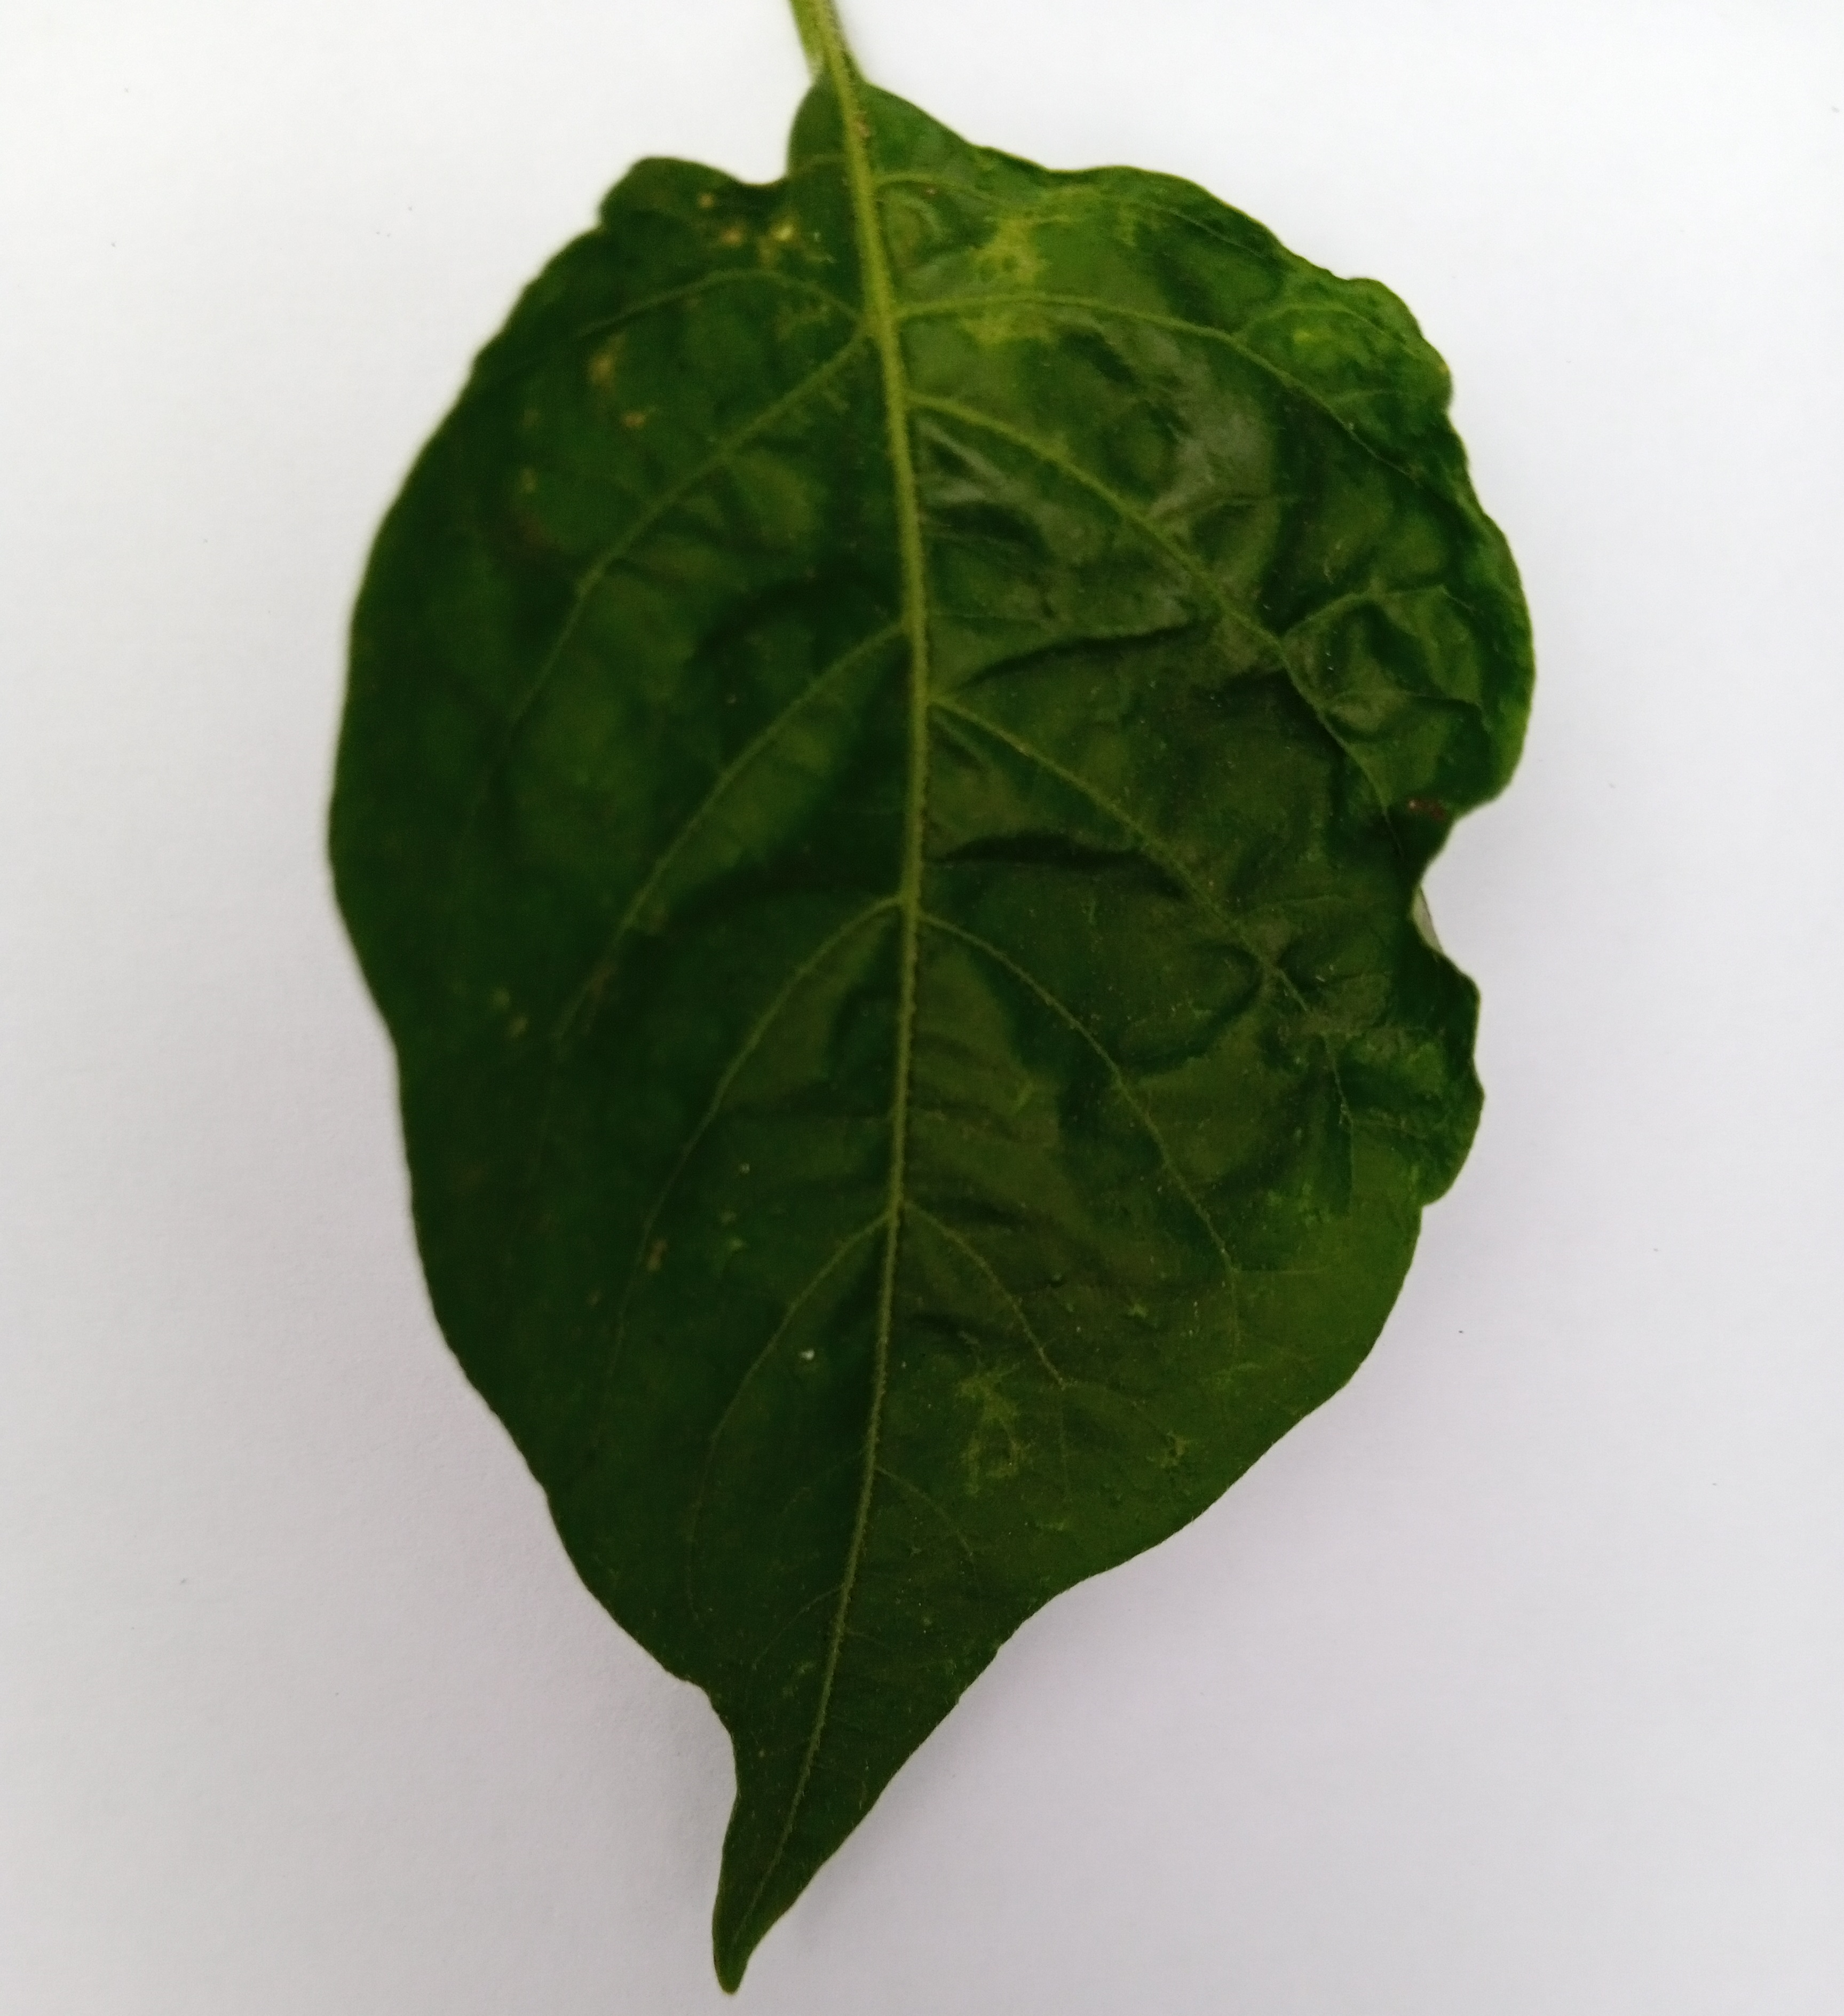Leaf: (277, 19, 1640, 2009)
